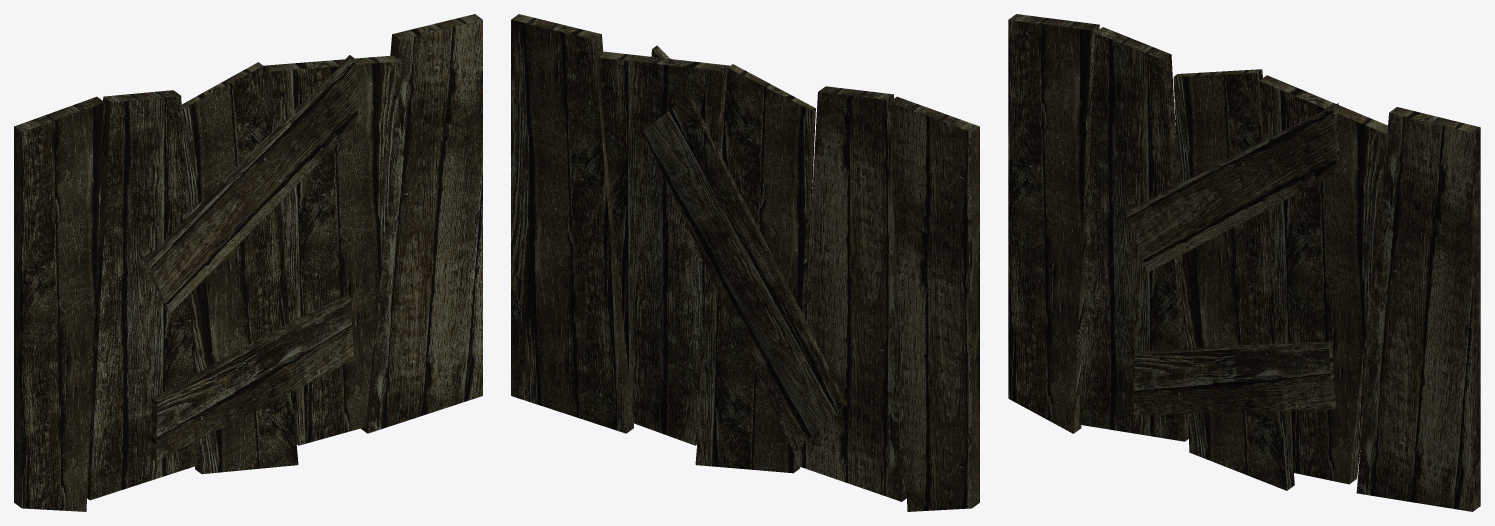
The model's file is palisada.glb.
The picture shows the model from 3 angles, left to right: view 1: azimuth 30°, elevation 25°; view 2: azimuth 150°, elevation 25°; view 3: azimuth 330°, elevation 25°; orthographic projection.
Parts seen in each view (by area): view 1: zengin; view 2: zengin; view 3: zengin.
Part boxes in pixels (bbox=[...]): zengin: bbox=[14, 14, 482, 511]; zengin: bbox=[511, 14, 979, 511]; zengin: bbox=[1008, 14, 1480, 511].
Bounding box in the file's own units: 4.08 × 3.47 × 0.2394.
1 material, 1 textured.
